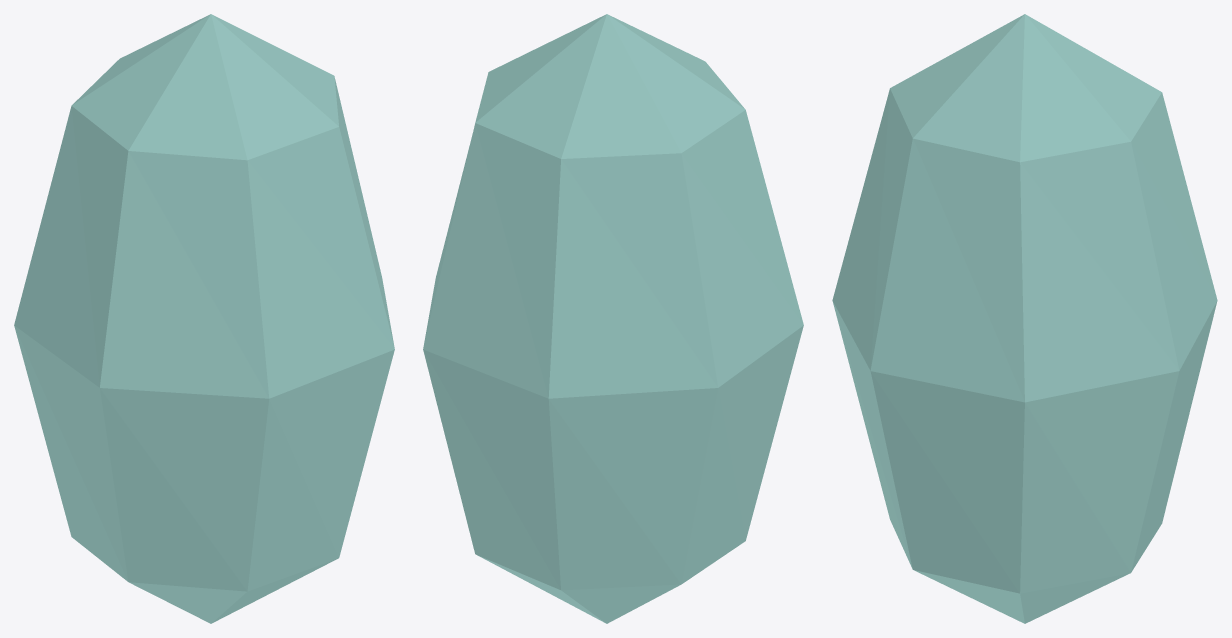
Rendered from water_drop.glb.
3 renders of one model, left to right at view 1: azimuth 30°, elevation 25°; view 2: azimuth 150°, elevation 25°; view 3: azimuth 270°, elevation 25°, orthographic.
Parts seen in each view (by area): view 1: Gießwasser · Tropfen; view 2: Gießwasser · Tropfen; view 3: Gießwasser · Tropfen.
Boxes of the visible parts, bbox=[...] form: Gießwasser · Tropfen: bbox=[14, 14, 394, 623]; Gießwasser · Tropfen: bbox=[423, 14, 803, 623]; Gießwasser · Tropfen: bbox=[832, 14, 1217, 623].
Size of the model in its own units: 0.0513 by 0.092 by 0.0526.
